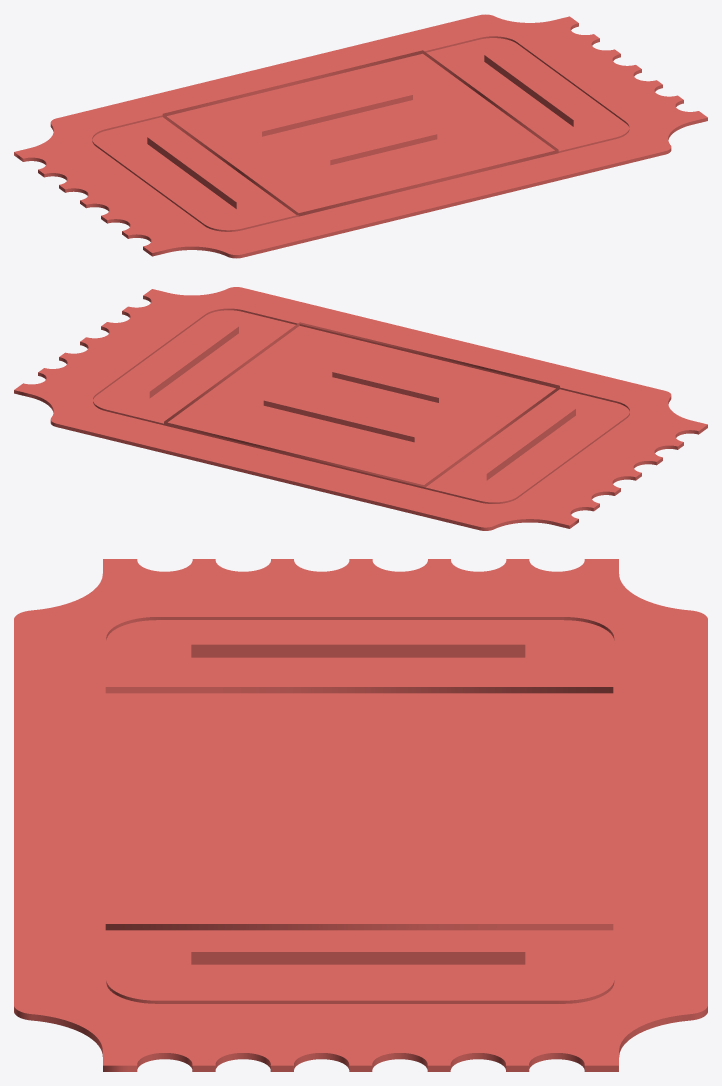
File: emoji_u1f39f.glb
3 views of the same model, one above another, from view 1: azimuth 30°, elevation 25°; view 2: azimuth 150°, elevation 25°; view 3: azimuth 270°, elevation 25° (orthographic). The views are drawn at different scales.
Visible parts, largest first — view 1: emoji_u1f39f; view 2: emoji_u1f39f; view 3: emoji_u1f39f.
Boxes of the visible parts, x1,y1,x2,y2 form: emoji_u1f39f: [14, 14, 707, 258]; emoji_u1f39f: [14, 287, 707, 530]; emoji_u1f39f: [14, 559, 707, 1071].
Size of the model in its own units: 0.0339 by 0.001 by 0.0196.
